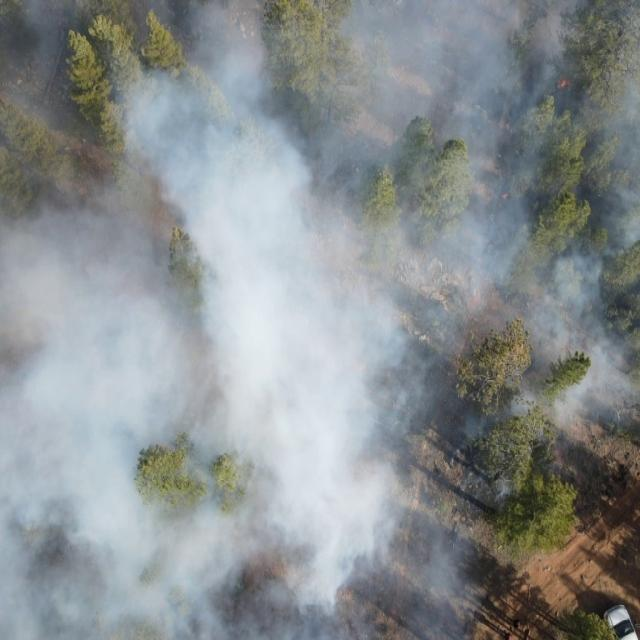fire: (554, 78, 572, 90), (500, 192, 511, 200)
smoke: (0, 0, 482, 640), (480, 0, 640, 504)
